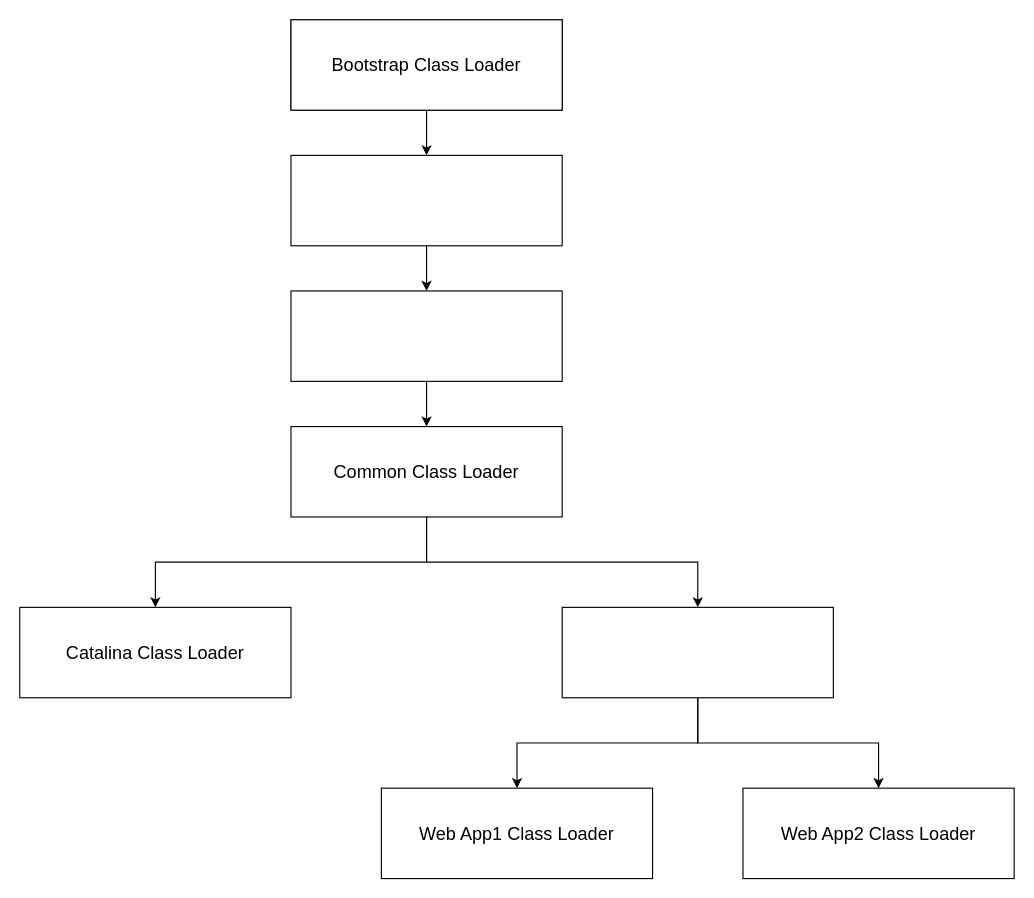
Image size: 1034x898. Some labels were removed from this diagram. The shapes that lost their labels are listed below. From the top down, each one's centre as x and y in pixels, then its label:
At pixel 426 200: "Extension Class Loader".
At pixel 426 335: "System Class Loader".
At pixel 697 652: "Shared Class Loader".
